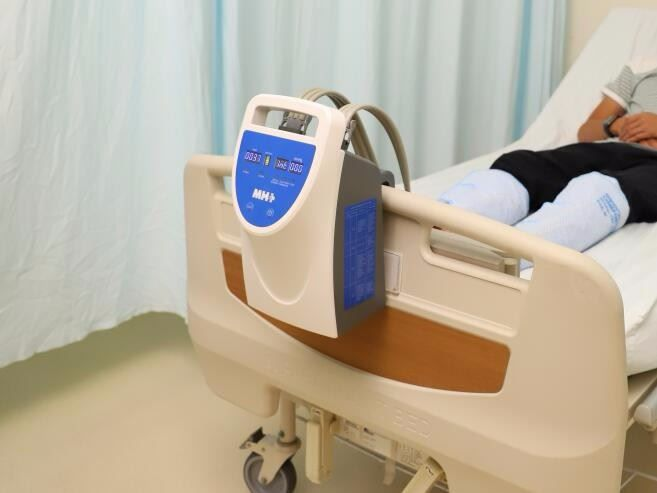foot_board: (187, 154, 632, 493)
hospital_bed: (180, 1, 657, 492)
patient: (397, 30, 657, 294)
sequential_compression: (227, 91, 410, 343)
